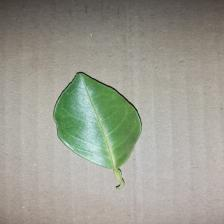greening: (48, 67, 151, 190)
